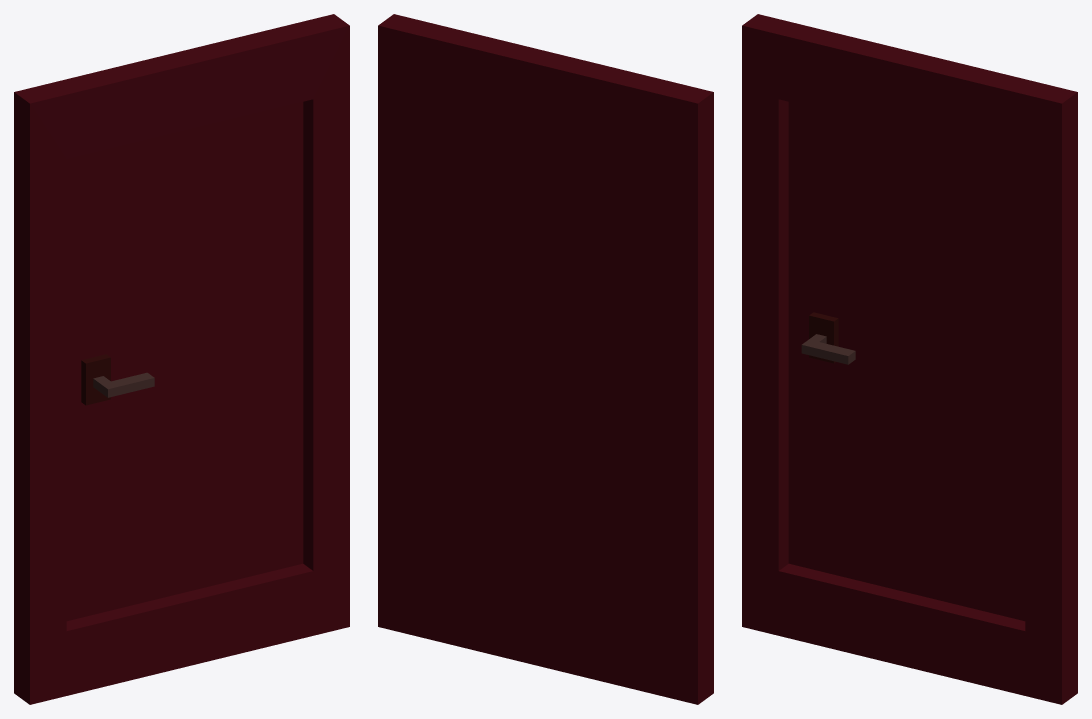
Rendered from Door.fbx.
3 renders of one model, left to right at view 1: azimuth 30°, elevation 25°; view 2: azimuth 150°, elevation 25°; view 3: azimuth 330°, elevation 25°, orthographic.
Visible parts, largest first — view 1: Door; view 2: Door; view 3: Door.
Boxes of the visible parts, <box> form: Door: <box>14,14,349,704</box>; Door: <box>378,14,713,704</box>; Door: <box>742,14,1077,704</box>.
Size of the model in its own units: 520 by 934 by 70.52.
